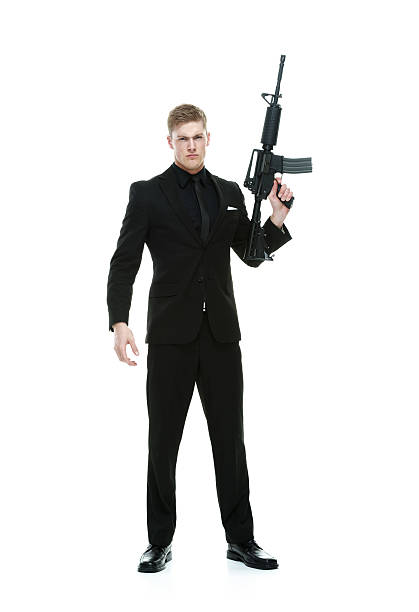rifle: (243, 48, 313, 269)
